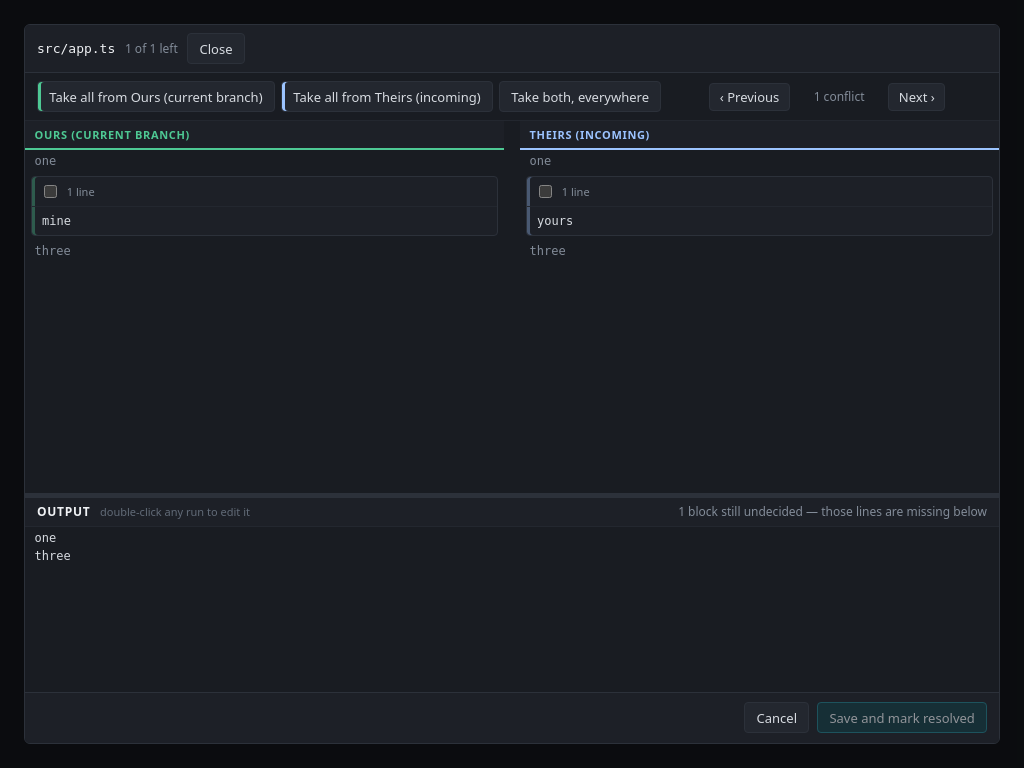
choosing blocks › takes every block from one side at once
Click the button "Take all from Ours (current branch)".
click(156, 97)  # box [37,81,275,112]
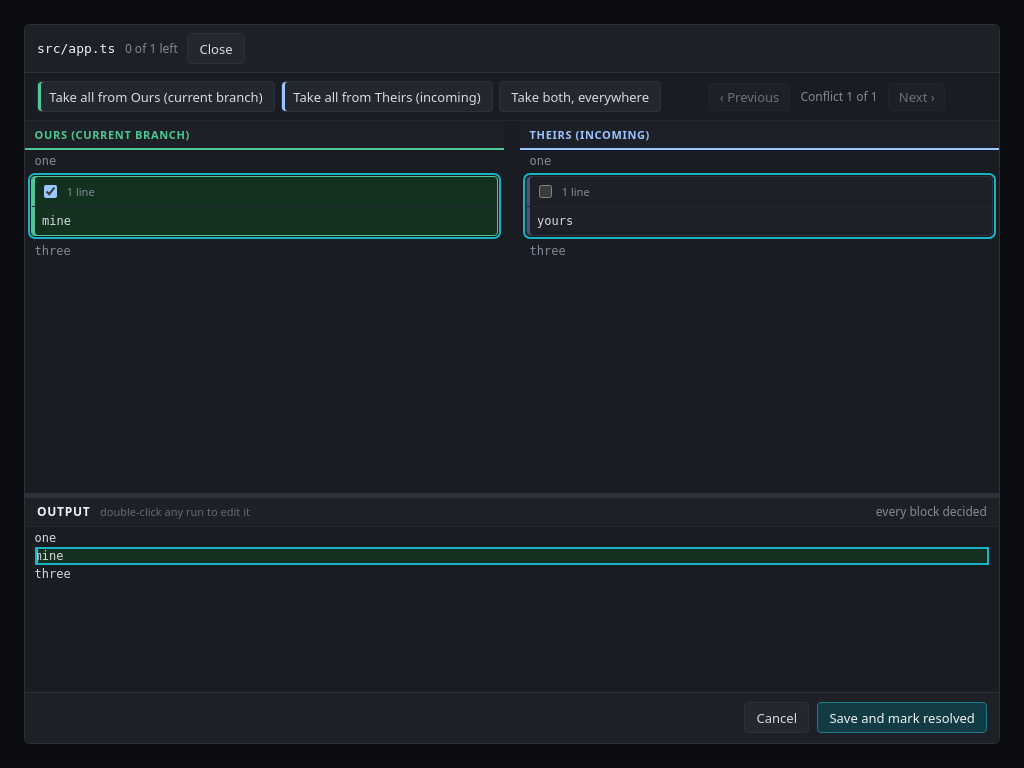
Now the element labelled "Output" shows "mine", box [35,549,64,563]
Now the button "Save and mark resolved" is enabled, box [817,702,987,733]
